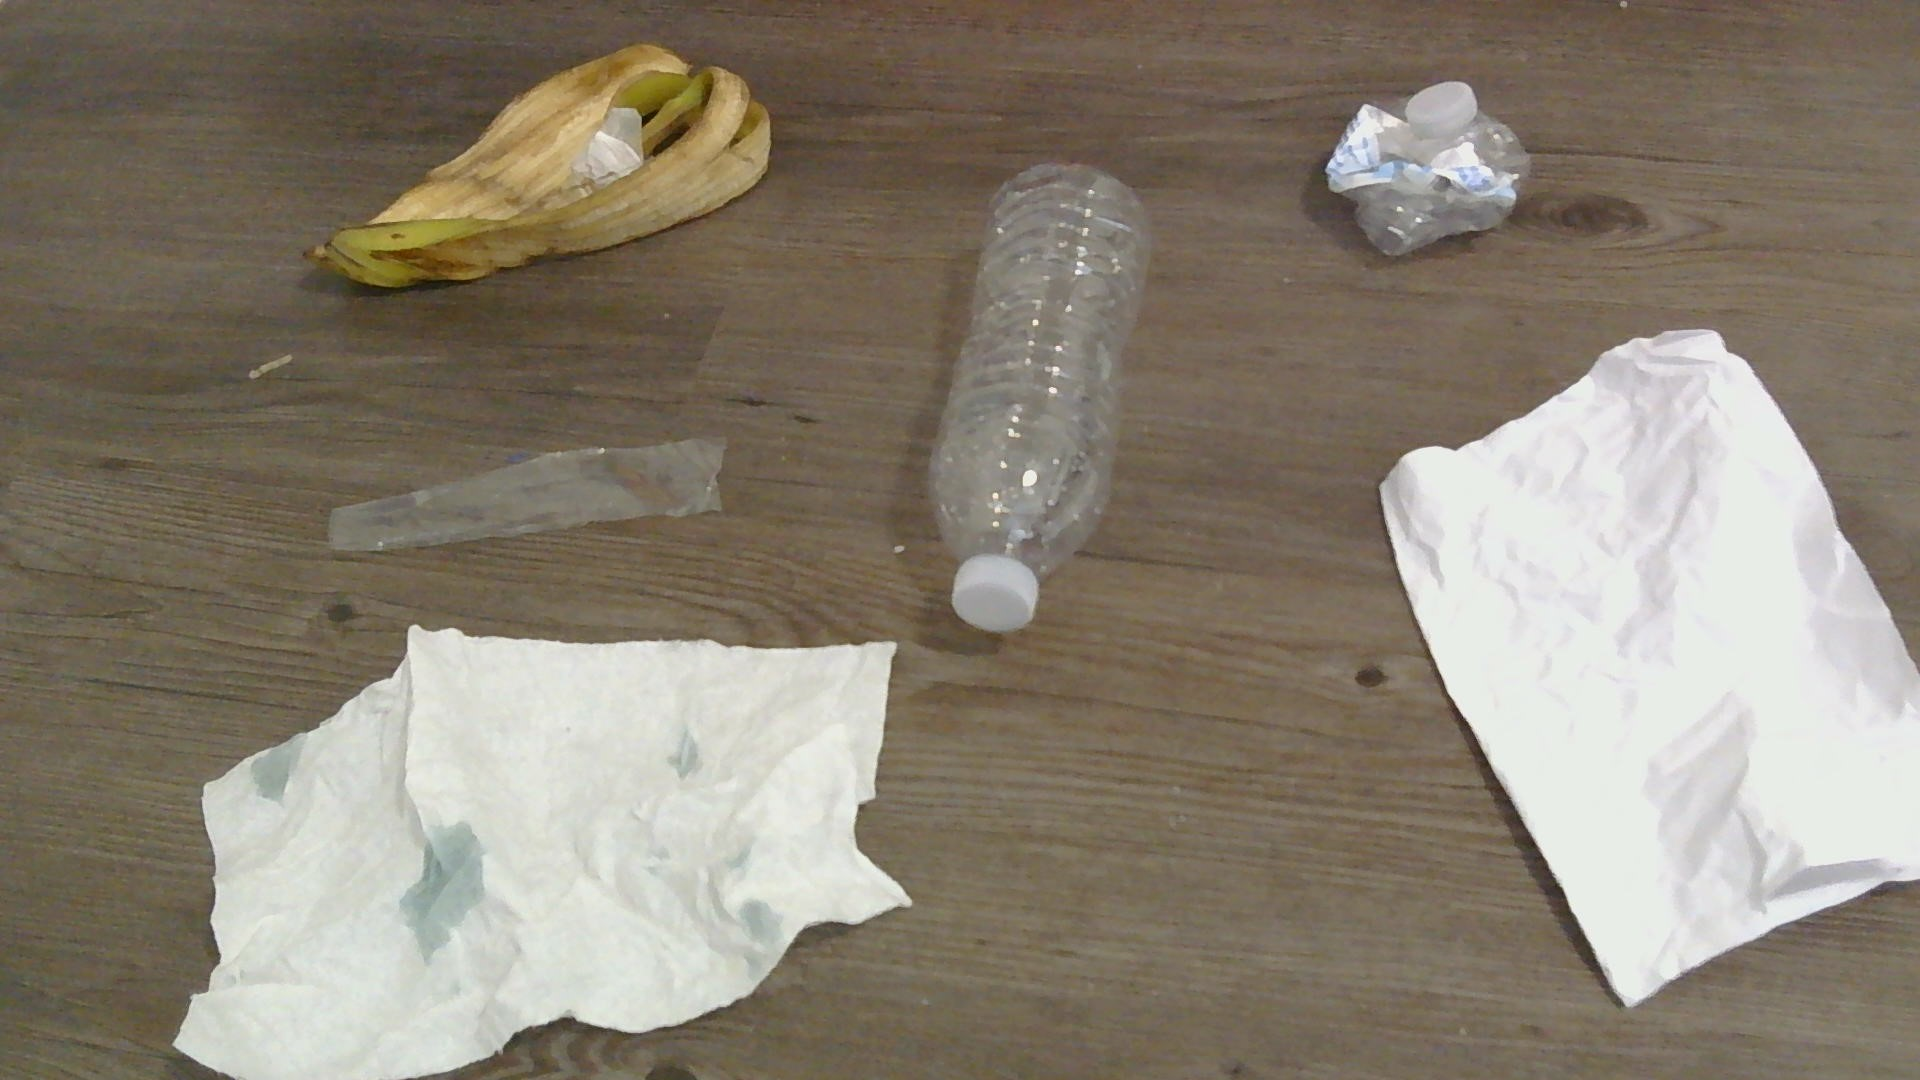banana peel: (306, 42, 771, 291)
bottle: (930, 162, 1155, 640)
crushed bottle: (1327, 78, 1527, 255)
napkin: (186, 630, 915, 1080)
paper: (1374, 330, 1917, 1000)
plastic piece: (318, 438, 723, 555)
